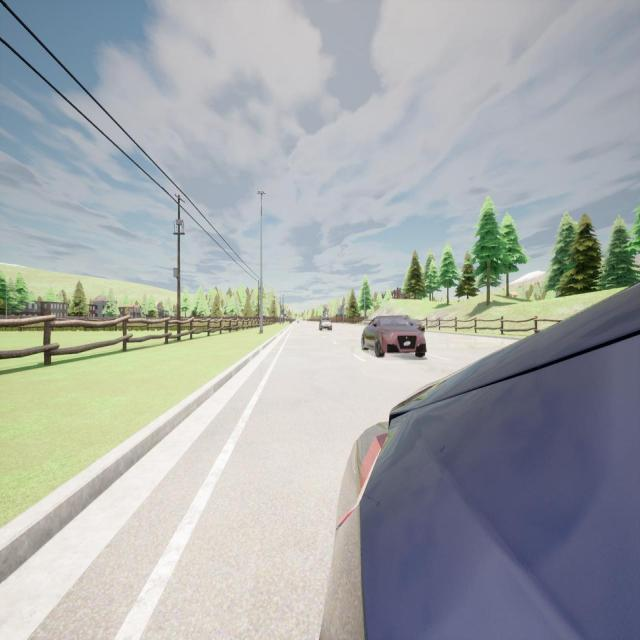Vehicle: (320, 283, 640, 638), (361, 316, 426, 358), (402, 316, 424, 330), (319, 318, 332, 330), (296, 320, 300, 324)
